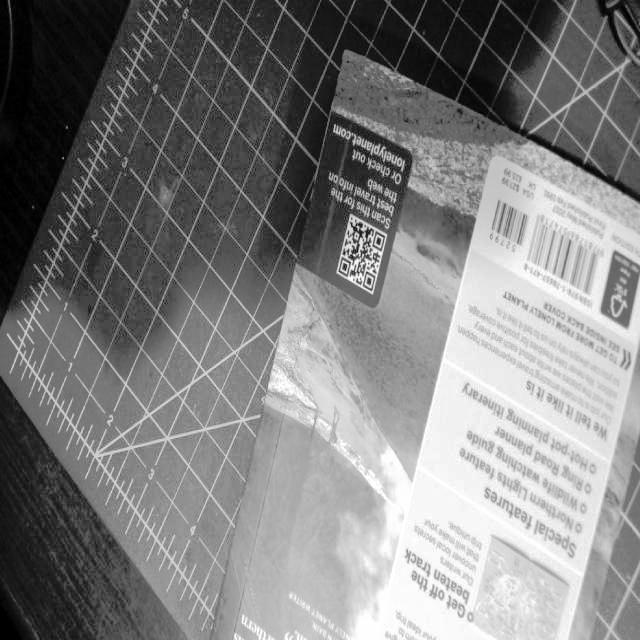qr_code: (328, 204, 401, 303)
